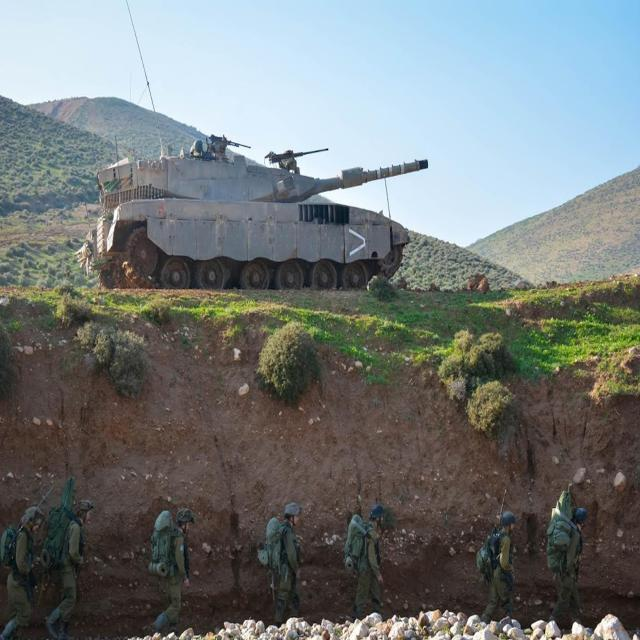Tanks: (61, 119, 500, 338)
